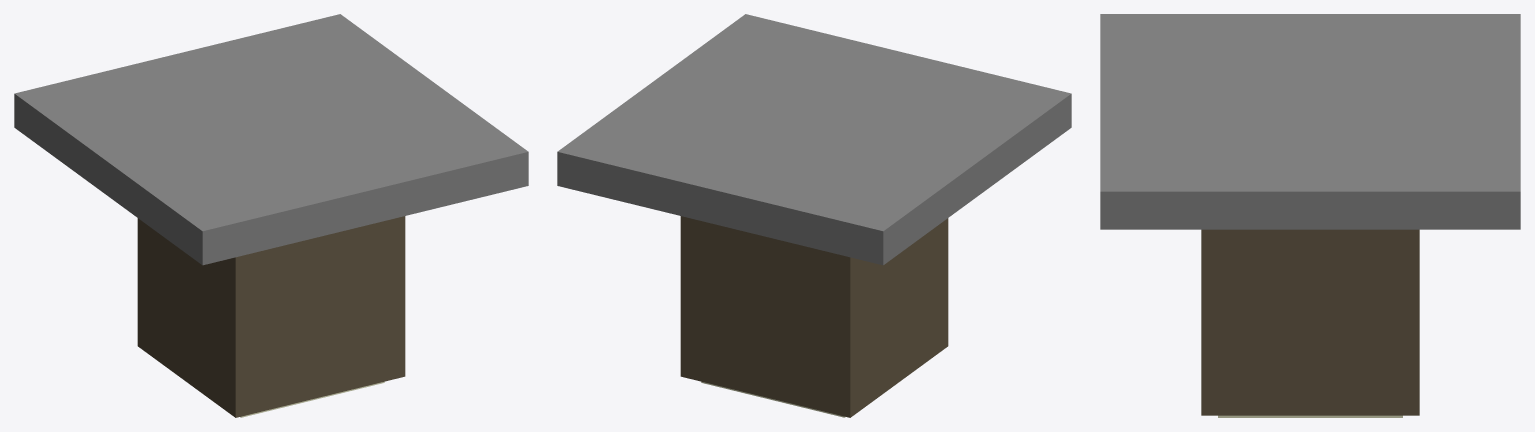
File: lamp1.fbx
3 views of the same model, side by side, from view 1: azimuth 30°, elevation 25°; view 2: azimuth 150°, elevation 25°; view 3: azimuth 270°, elevation 25° (orthographic). The views are drawn at different scales.
Parts seen in each view (by area): view 1: lamp1; view 2: lamp1; view 3: lamp1.
Boxes of the visible parts, x1,y1,x2,y2 form: lamp1: [14, 14, 528, 417]; lamp1: [557, 14, 1071, 417]; lamp1: [1100, 14, 1520, 417].
Bounding box in the file's own units: 60 × 43.5 × 60.
